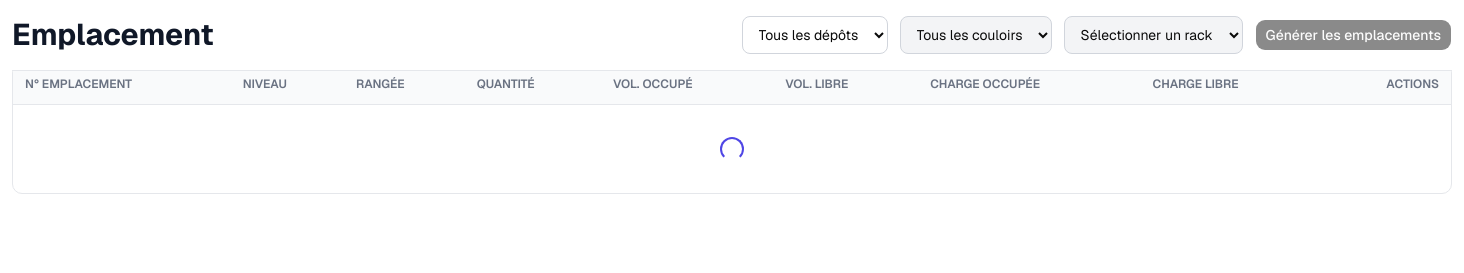
Test case: shows error when generate returns 0 emplacements
Select "101 - Dépôt A" in the 1st dropdown at (815, 35), box [742,16,888,54]
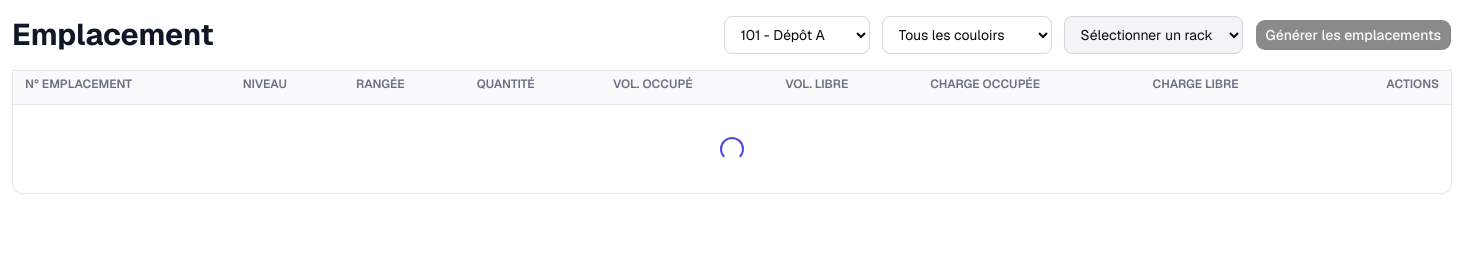
Select "C01 - Couloir Alpha" in the 2nd dropdown at (967, 35), box [882,16,1052,54]
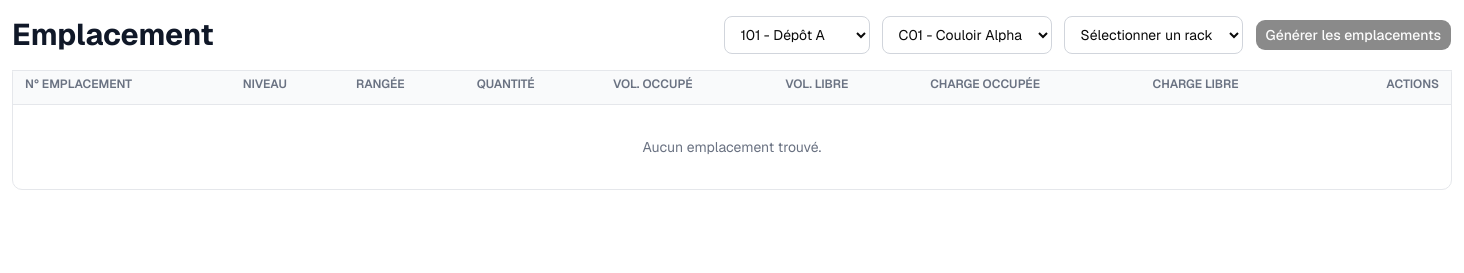
Select "R01" in the 3rd dropdown at (1153, 35), box [1064,16,1243,54]
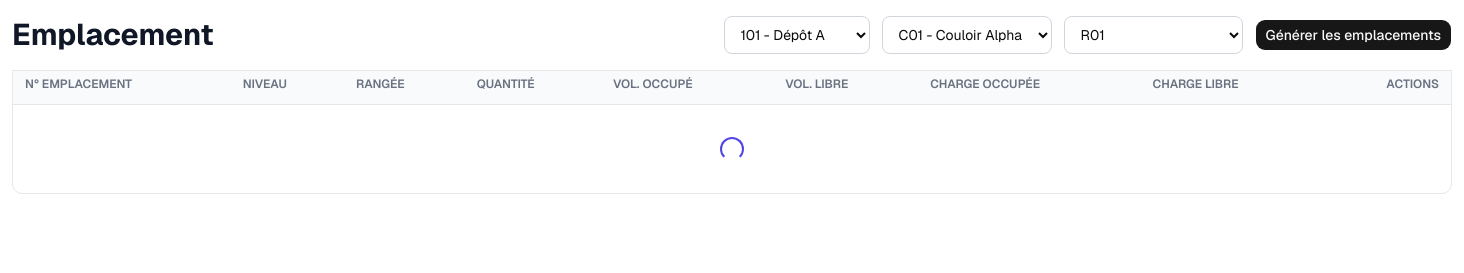
Click the button "Générer les emplacements" at (1353, 35), box [1255,19,1452,51]
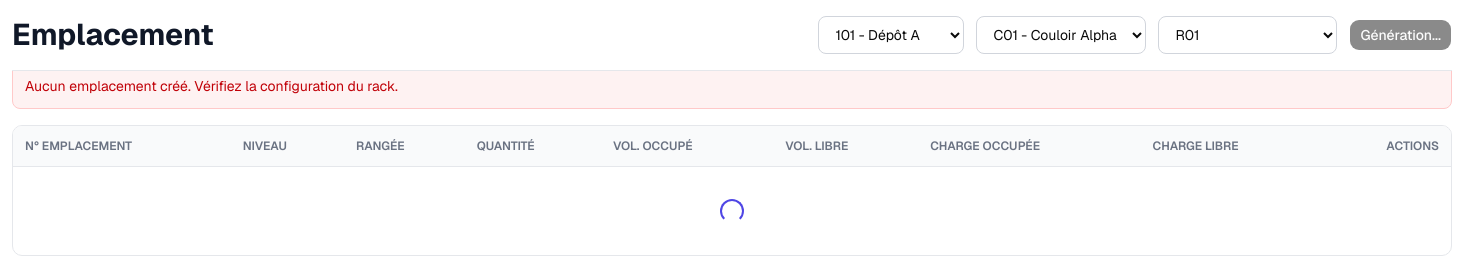
Now the text "Aucun emplacement créé. Vérifiez la configuration du rack." is shown, box [12,63,1452,109]
